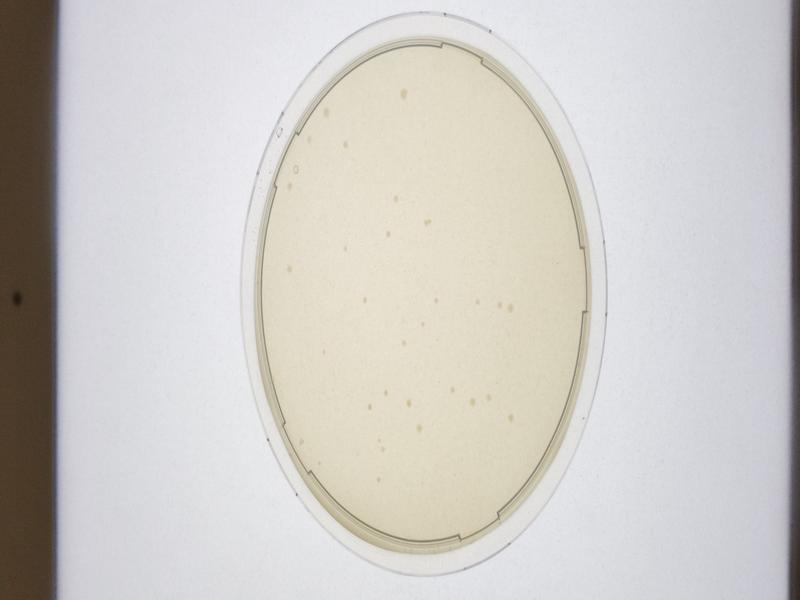colony: (381, 229, 396, 241), (446, 384, 457, 395), (398, 86, 408, 98), (284, 263, 294, 274), (505, 412, 516, 422), (364, 401, 373, 413), (295, 434, 303, 447), (430, 295, 441, 304), (341, 139, 350, 149), (374, 474, 383, 484), (412, 423, 421, 432), (340, 245, 349, 253), (381, 387, 388, 397), (474, 298, 481, 307), (362, 295, 369, 303), (405, 400, 412, 408), (319, 348, 325, 356)
